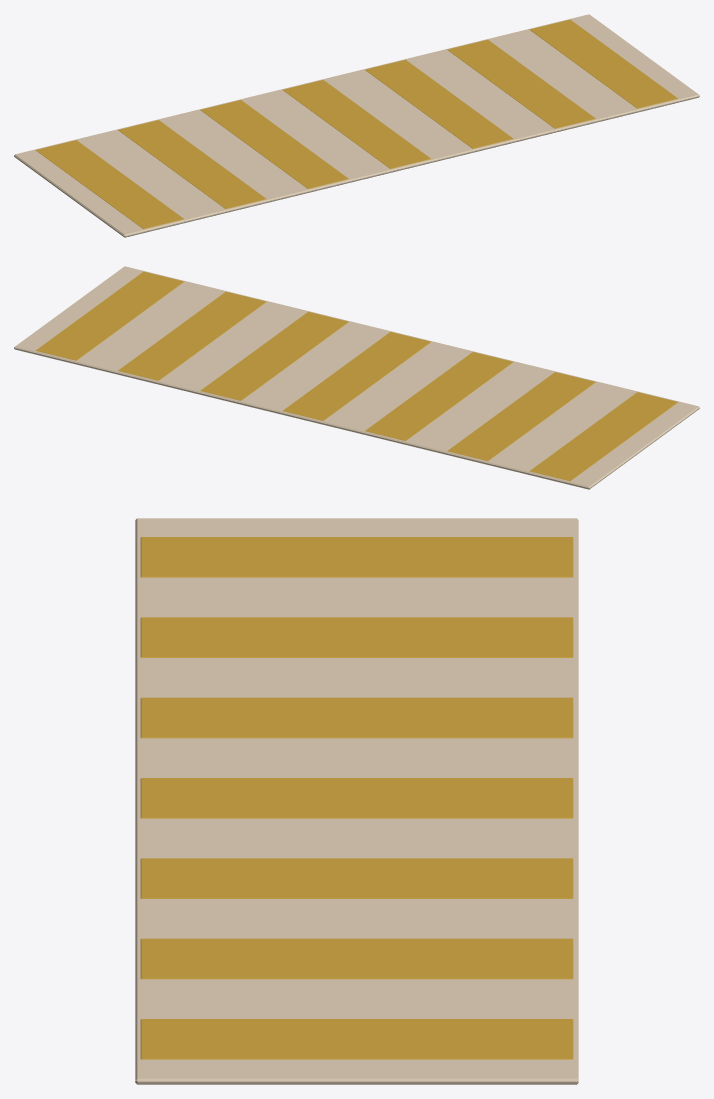
The model's file is i_rug_7.glb.
3 views of the same model, one above another, from view 1: azimuth 30°, elevation 25°; view 2: azimuth 150°, elevation 25°; view 3: azimuth 270°, elevation 25° (orthographic). The views are drawn at different scales.
Visible parts, largest first — view 1: o, o.001, o.005, o.007, o.002, o.003, o.004, o.006; view 2: o, o.001, o.005, o.007, o.002, o.003, o.004, o.006; view 3: o, o.003, o.006, o.002, o.005, o.001, o.004, o.007.
Boxes of the visible parts, x1=… form: o: x1=14, y1=14, x2=699, y2=237; o.001: x1=35, y1=140, x2=184, y2=229; o.005: x1=365, y1=59, x2=513, y2=148; o.007: x1=529, y1=19, x2=678, y2=108; o.002: x1=118, y1=120, x2=266, y2=208; o.003: x1=200, y1=100, x2=348, y2=188; o.004: x1=283, y1=80, x2=430, y2=168; o.006: x1=447, y1=39, x2=595, y2=128; o: x1=14, y1=266, x2=699, y2=489; o.001: x1=529, y1=392, x2=678, y2=481; o.005: x1=200, y1=311, x2=348, y2=400; o.007: x1=35, y1=271, x2=184, y2=360; o.002: x1=447, y1=372, x2=595, y2=460; o.003: x1=365, y1=352, x2=513, y2=440; o.004: x1=283, y1=332, x2=430, y2=420; o.006: x1=118, y1=291, x2=266, y2=380; o: x1=135, y1=518, x2=578, y2=1084; o.003: x1=140, y1=697, x2=573, y2=738; o.006: x1=140, y1=938, x2=573, y2=979; o.002: x1=140, y1=617, x2=573, y2=657; o.005: x1=140, y1=858, x2=573, y2=898; o.001: x1=140, y1=537, x2=573, y2=577; o.004: x1=140, y1=778, x2=573, y2=818; o.007: x1=140, y1=1019, x2=573, y2=1059.
Size of the model in its own units: 2.4 by 0.013 by 0.8.
